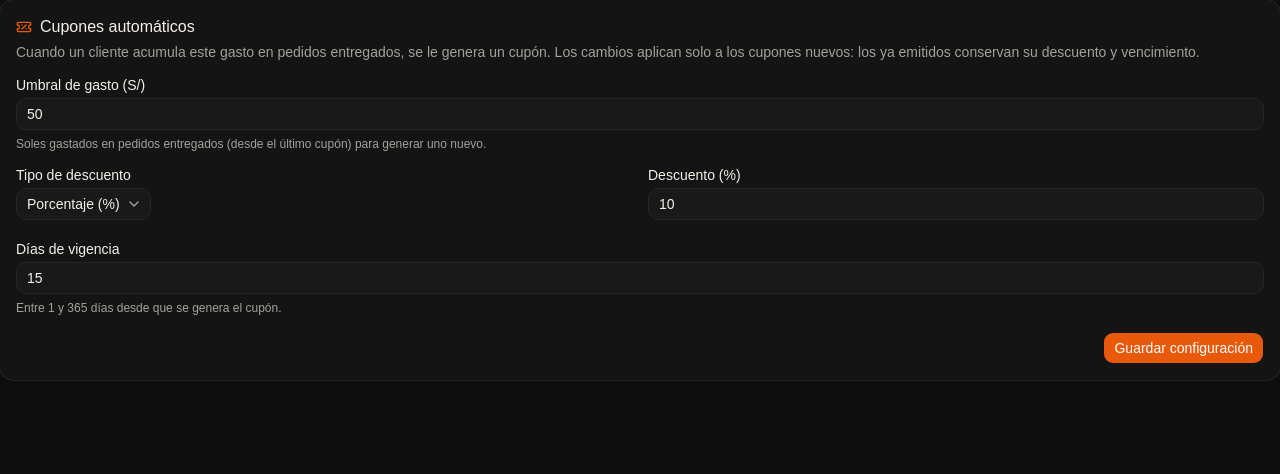
Test: AutoCouponConfigCard › envía los 4 campos como números y muestra el éxito
This screenshot has width=1280, height=474.
Replace the text in the number field labelled "Días de vigencia" with "30" at (640, 278), box [16, 262, 1264, 294]
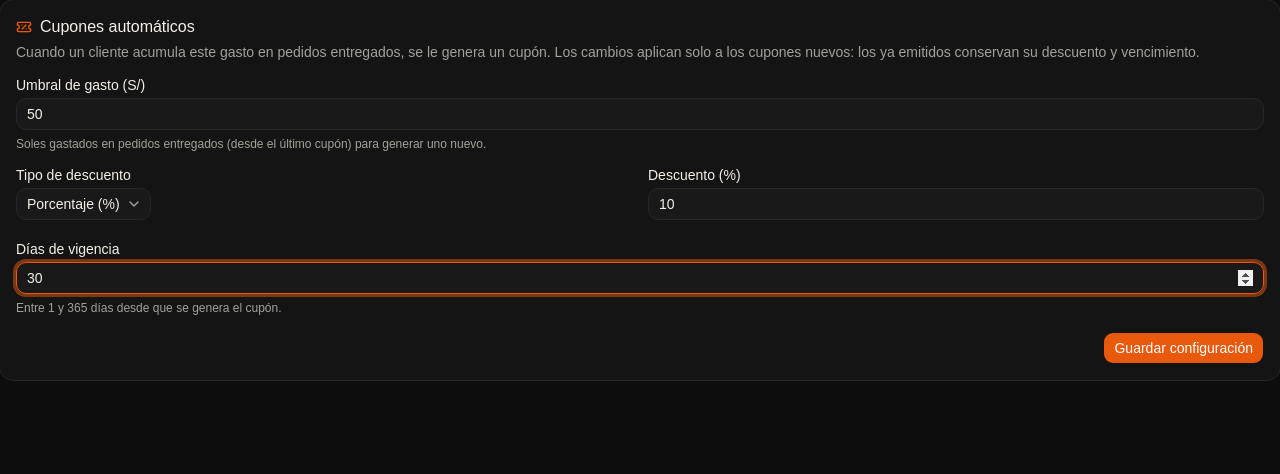
Click the button "Guardar configuración" at (1184, 348), box [1104, 332, 1264, 364]
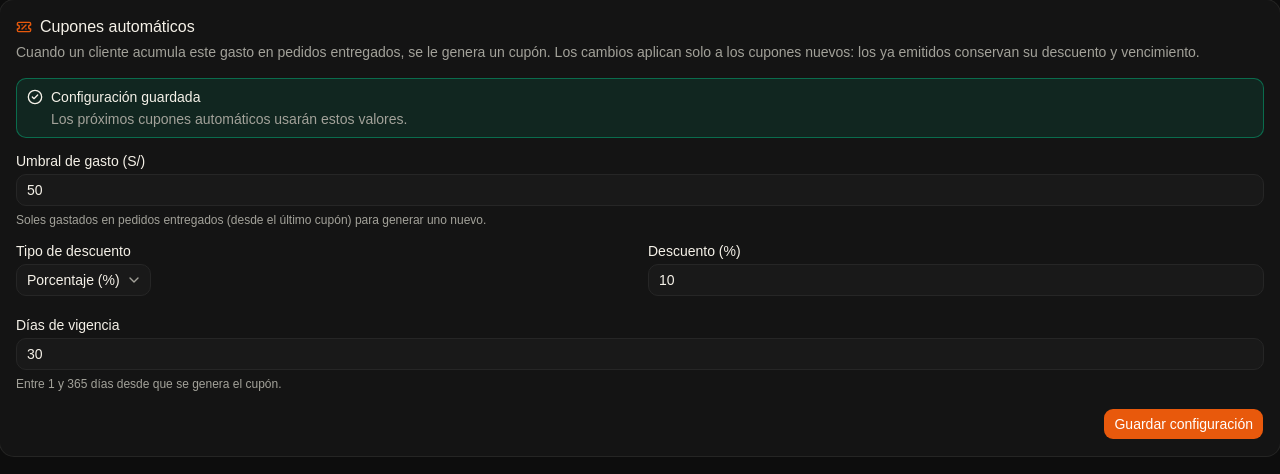
Expected: the text "Configuración guardada" is shown, [51, 89, 200, 105]
